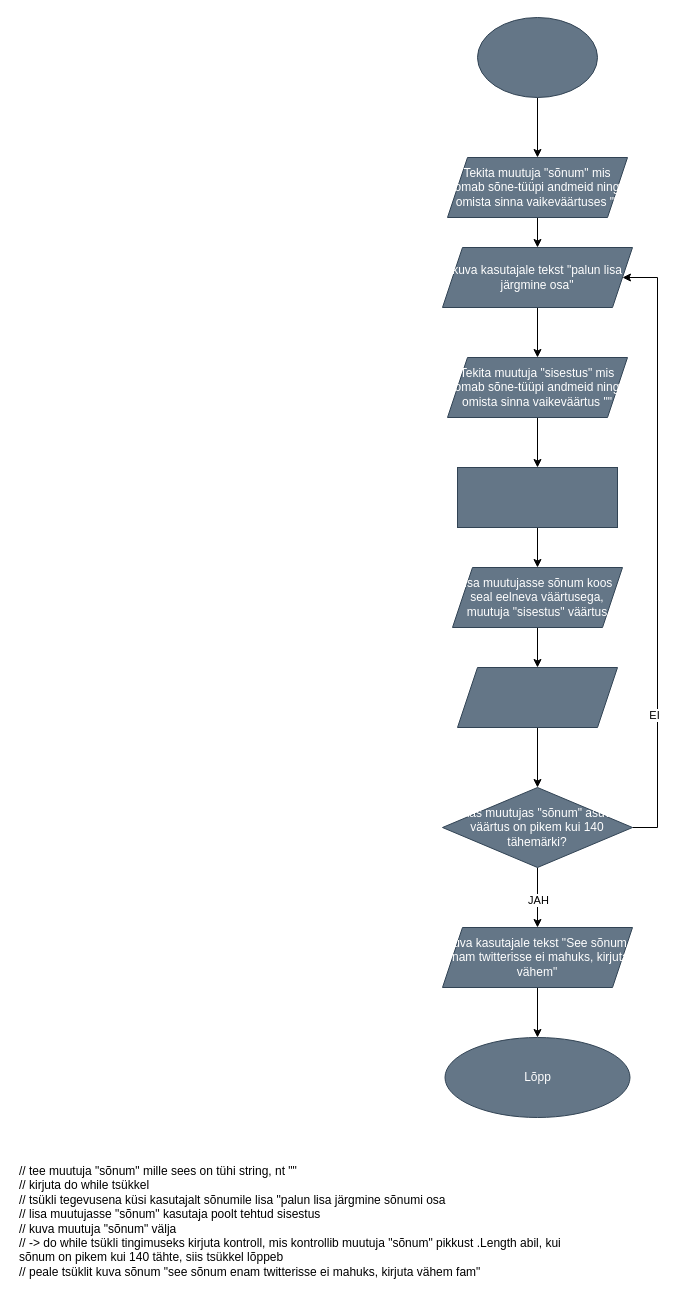
Some shapes in this 683 by 1315 pixel diagram are drawn without their labels. Each missing label, with the centre of its shape:
Algus: [537,57]
kuva kasutajale muutujas "sõnum" asuv väärtus: [537,697]
oota kuni kasutaja sisestab midagi käsureale: [537,497]
